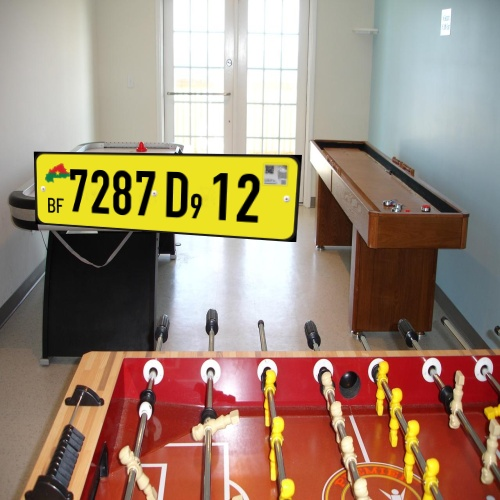plate: (26, 140, 314, 251)
